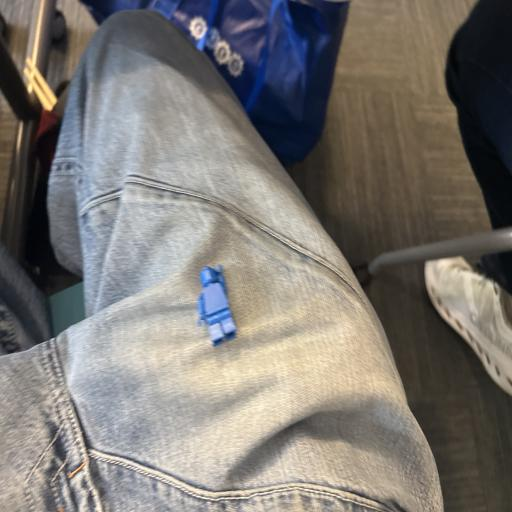Minifig: (197, 265, 236, 346)
